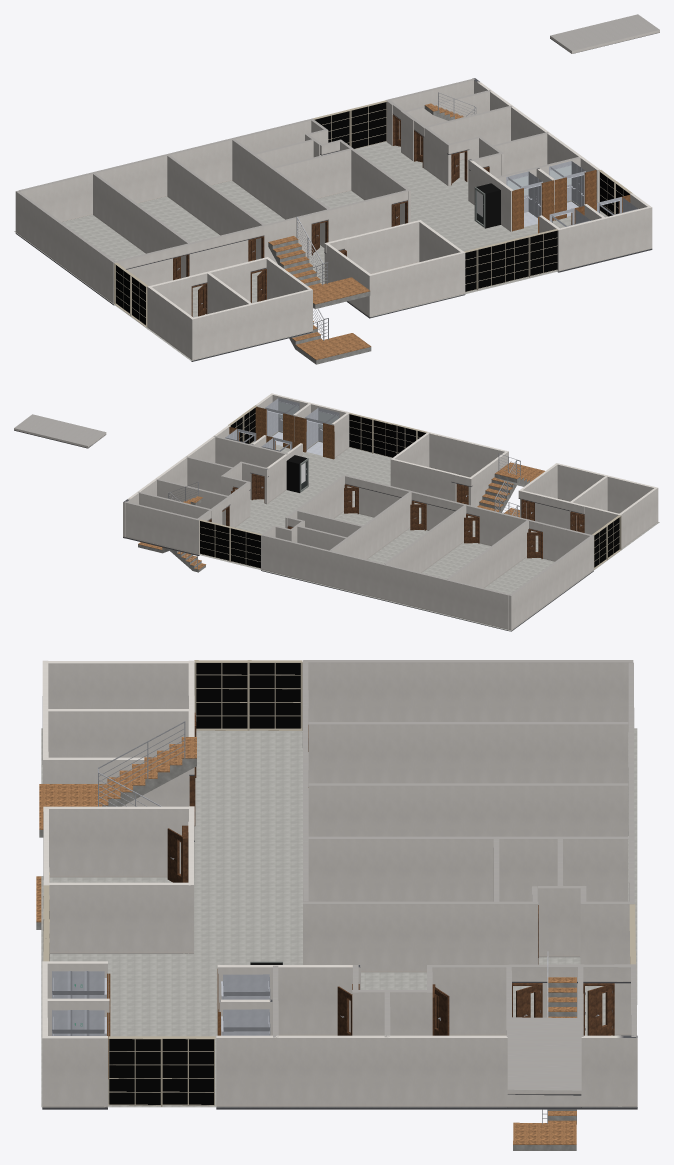
File: oficinas.glb
The picture shows the model from 3 angles, top to bottom: view 1: azimuth 30°, elevation 25°; view 2: azimuth 150°, elevation 25°; view 3: azimuth 270°, elevation 25°; orthographic projection. The views are drawn at different scales.
Visible parts, largest first — view 1: Cubo.001, Piso, Cubo.011, Plano, Cubo, Cubo.012, Cubo.028, Cubo.015, Cubo.014, Cubo.013, Cubo.008, Cubo.038 (+38 smaller); view 2: Cubo.001, Piso, Plano, Cubo, Cubo.017, Cubo.015, Cubo.013, Cubo.011, Cubo.014, Cubo.012, Cubo.008, Restar (+43 smaller); view 3: Piso, Cubo.016, Cubo, Cubo.013, Cubo.015, Cubo.014, Cubo.010, Cubo.009, Cubo.007, Cubo.006, Cubo.005, Restar (+33 smaller).
Part boxes in pixels (x1,y1,x2,y2): Cubo.001: [19, 118, 313, 222]; Piso: [14, 180, 527, 360]; Cubo.011: [190, 289, 312, 361]; Plano: [355, 141, 651, 278]; Cubo: [15, 190, 115, 305]; Cubo.012: [369, 251, 465, 317]; Cubo.028: [560, 207, 649, 271]; Cubo.015: [232, 139, 329, 247]; Cubo.014: [167, 155, 264, 259]; Cubo.013: [93, 173, 190, 278]; Cubo.008: [345, 220, 421, 273]; Cubo.038: [272, 148, 351, 198]; Cubo.001: [261, 534, 509, 630]; Piso: [228, 454, 659, 630]; Plano: [198, 441, 375, 561]; Cubo: [509, 535, 593, 631]; Cubo.017: [125, 501, 198, 555]; Cubo.015: [329, 492, 411, 559]; Cubo.013: [447, 520, 528, 587]; Cubo.011: [556, 463, 658, 522]; Cubo.014: [384, 505, 466, 572]; Cubo.012: [427, 432, 507, 477]; Cubo.008: [390, 458, 456, 501]; Restar: [14, 414, 106, 448]; Piso: [41, 728, 637, 1004]; Cubo.016: [216, 1035, 637, 1109]; Cubo: [303, 660, 633, 730]; Cubo.013: [308, 722, 628, 783]; Cubo.015: [308, 836, 628, 901]; Cubo.014: [308, 783, 628, 836]; Cubo.010: [303, 901, 538, 972]; Cubo.009: [47, 882, 188, 953]; Cubo.007: [43, 806, 194, 877]; Cubo.006: [47, 661, 189, 708]; Cubo.005: [47, 709, 188, 757]; Restar: [507, 1017, 581, 1095].
Size of the model in its own units: 95.32 by 21.27 by 48.59.
Materials: 45 (8 with a texture image).
